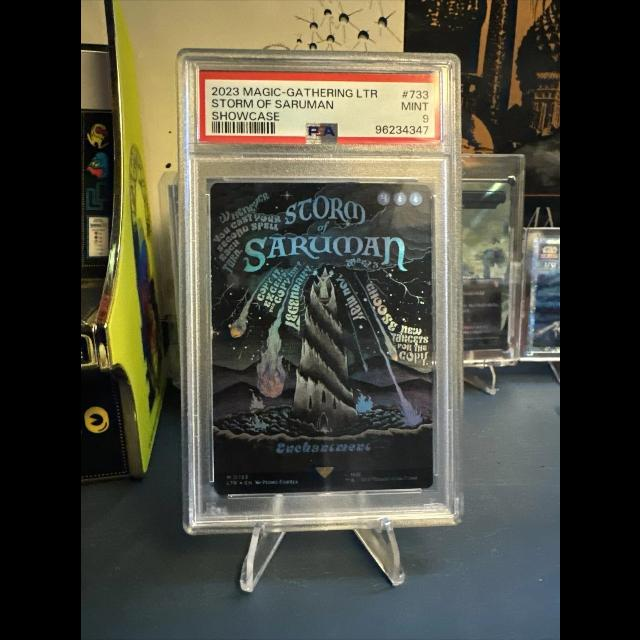card: (209, 182, 433, 496)
psa_label: (197, 69, 442, 144)
psa_slab: (175, 47, 465, 536)
